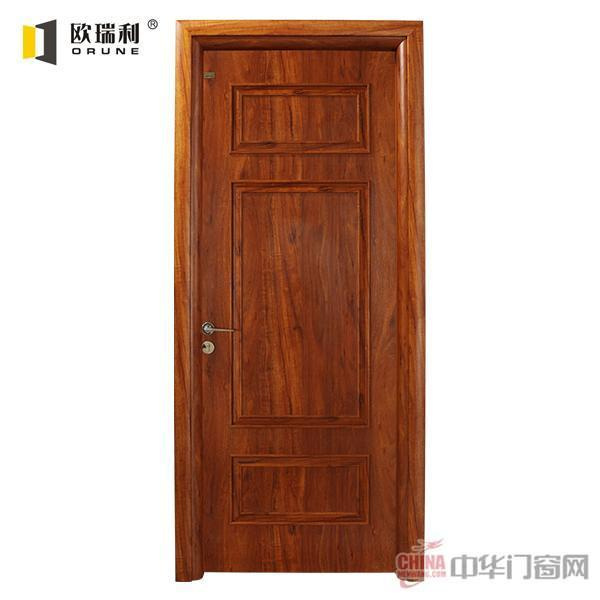door: (197, 39, 402, 575)
